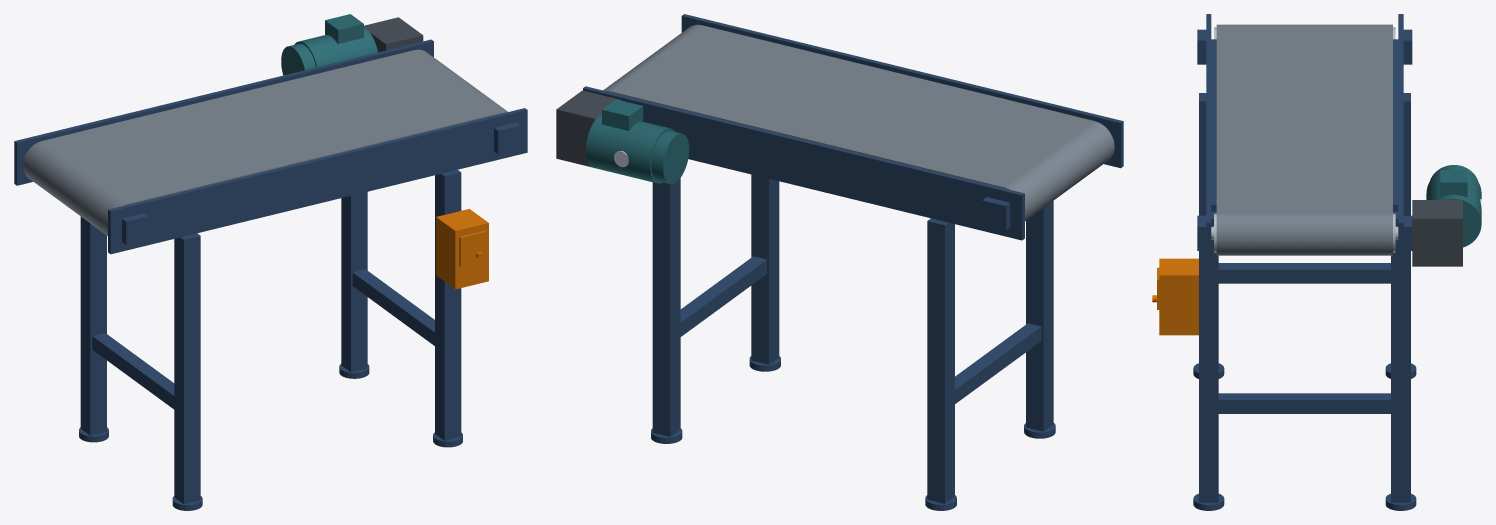
File: CONV-BELT-1M.glb
3 renders of one model, left to right at view 1: azimuth 30°, elevation 25°; view 2: azimuth 150°, elevation 25°; view 3: azimuth 270°, elevation 25°, orthographic. The views are drawn at different scales.
Visible parts, largest first — view 1: Belt, Legs, Frame, VFD_Body, Motor, Gearbox; view 2: Belt, Legs, Frame, Motor, Gearbox; view 3: Belt, Legs, Frame, Gearbox, VFD_Body, Motor.
Part boxes in pixels (x1=…): Belt: x1=23, y1=49, x2=507, y2=235; Legs: x1=79, y1=169, x2=462, y2=510; Frame: x1=14, y1=39, x2=527, y2=254; VFD_Body: x1=436, y1=209, x2=488, y2=289; Motor: x1=281, y1=14, x2=377, y2=75; Gearbox: x1=364, y1=17, x2=423, y2=52; Belt: x1=603, y1=24, x2=1114, y2=221; Legs: x1=651, y1=174, x2=1055, y2=510; Frame: x1=583, y1=14, x2=1123, y2=240; Motor: x1=586, y1=99, x2=689, y2=184; Gearbox: x1=556, y1=90, x2=621, y2=167; Belt: x1=1216, y1=24, x2=1392, y2=255; Legs: x1=1193, y1=93, x2=1416, y2=510; Frame: x1=1197, y1=14, x2=1412, y2=266; Gearbox: x1=1412, y1=200, x2=1462, y2=266; VFD_Body: x1=1152, y1=258, x2=1198, y2=335; Motor: x1=1426, y1=165, x2=1481, y2=247.
Size of the model in its own units: 1.12 by 0.8415 by 0.747.
